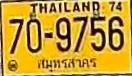0: (26, 18, 41, 52)
5: (90, 15, 105, 51)
6: (108, 15, 123, 50)
7: (8, 18, 24, 53), (73, 16, 88, 51)
9: (55, 16, 70, 51)
SKN: (35, 56, 97, 73)
